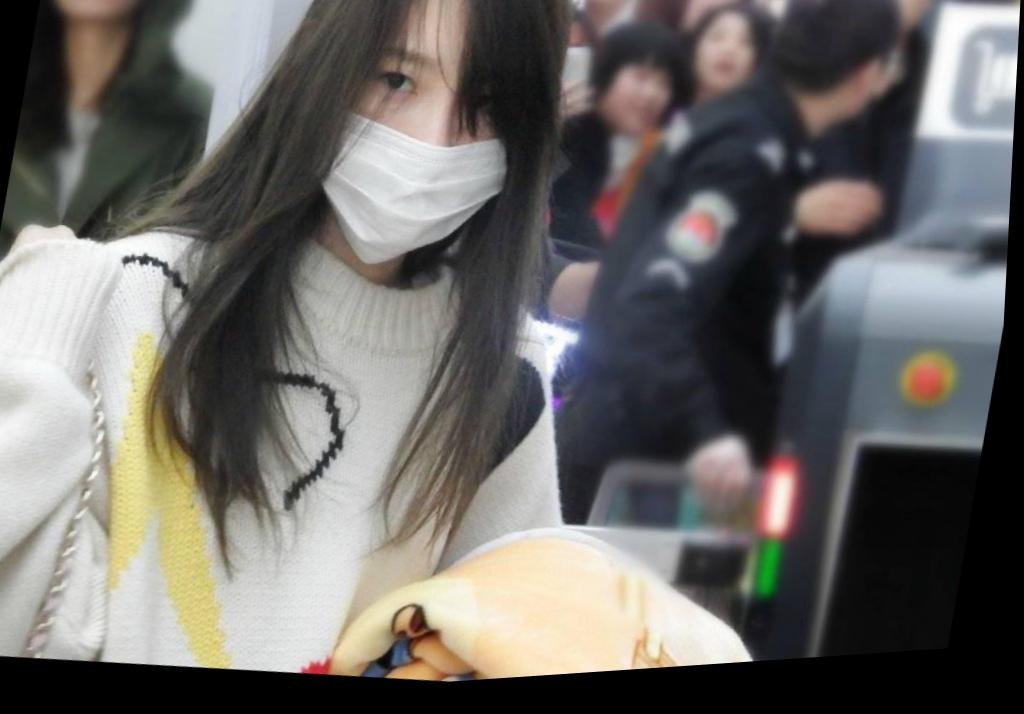NONE: (608, 72, 678, 142), (692, 32, 760, 101), (49, 1, 161, 33)
WRONG: (298, 16, 547, 291)
